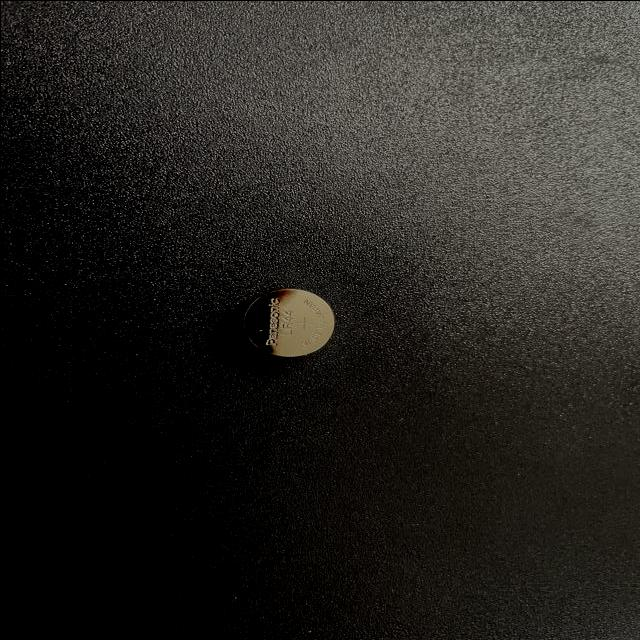COIN: (241, 285, 333, 358)
